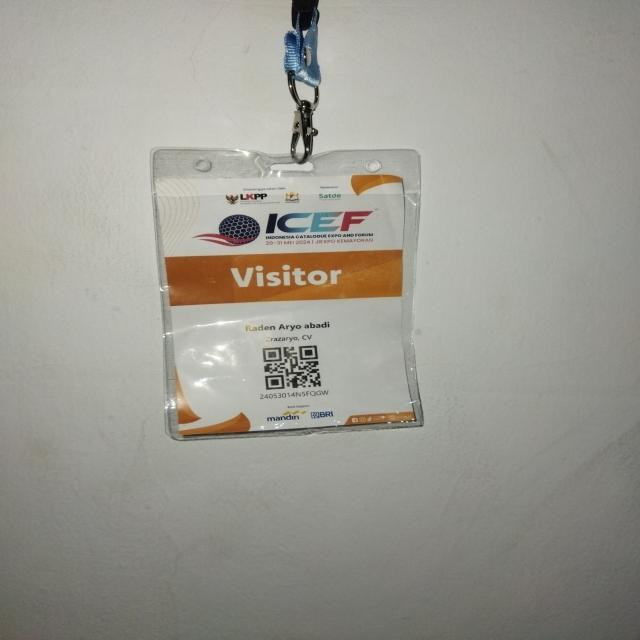ID_card: (150, 148, 424, 440)
